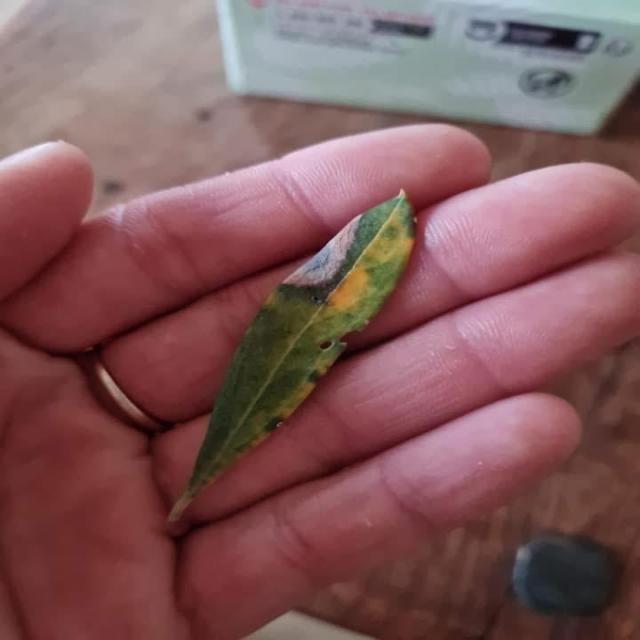Peacock Eye: (168, 191, 415, 524)
